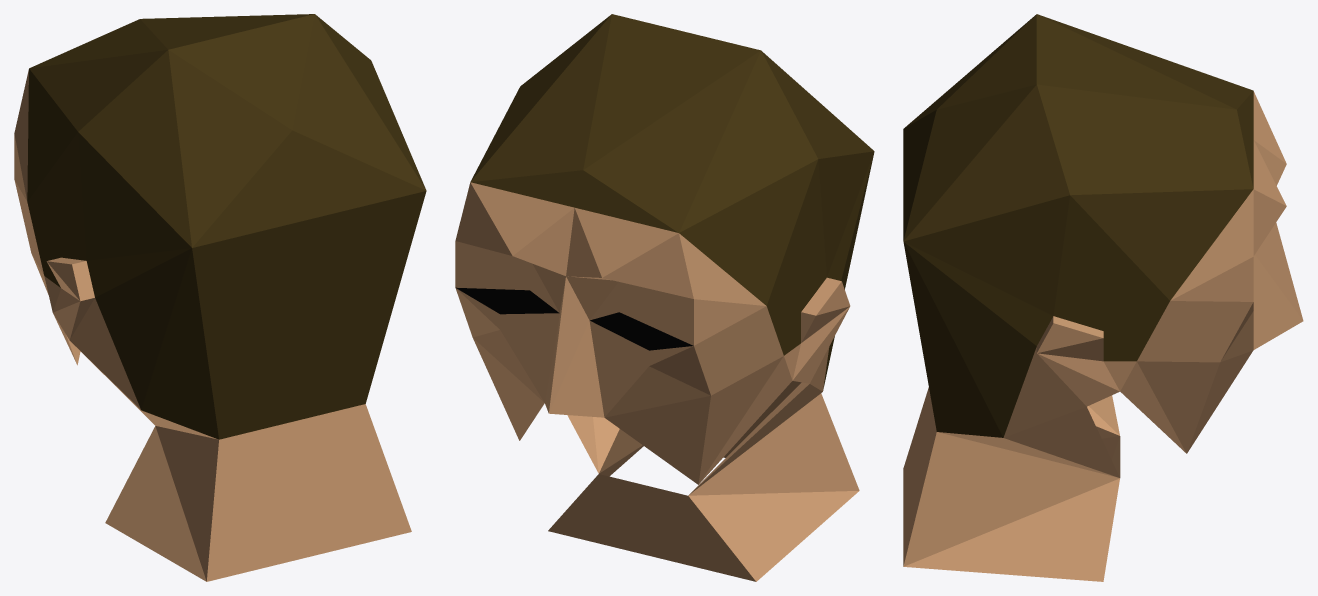
The model's file is player_male_head_5_0.obj.
3 renders of one model, left to right at view 1: azimuth 30°, elevation 25°; view 2: azimuth 150°, elevation 25°; view 3: azimuth 270°, elevation 25°, orthographic. The views are drawn at different scales.
Size of the model in its own units: 0.1719 by 0.25 by 0.1875.
